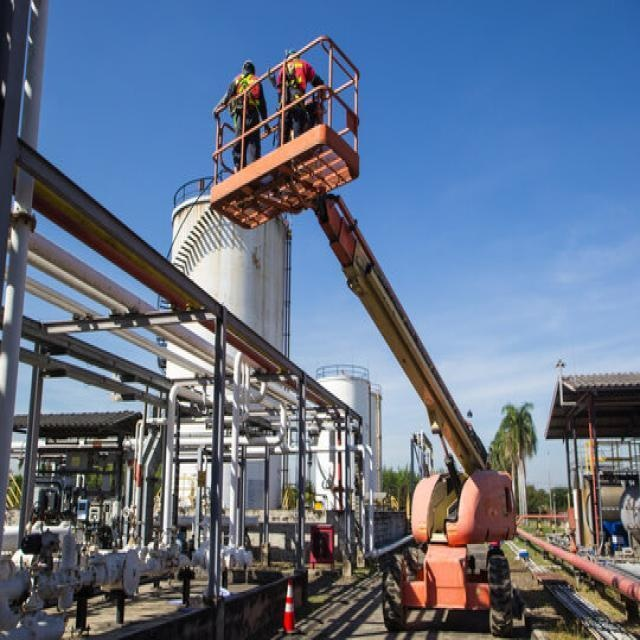Arnes_seguridad: (234, 75, 260, 129), (285, 60, 304, 109)
